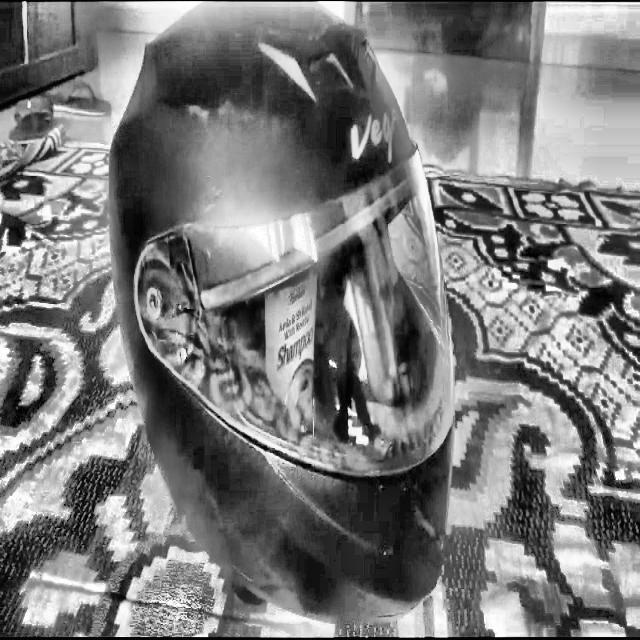Helmet: (106, 1, 467, 640)
